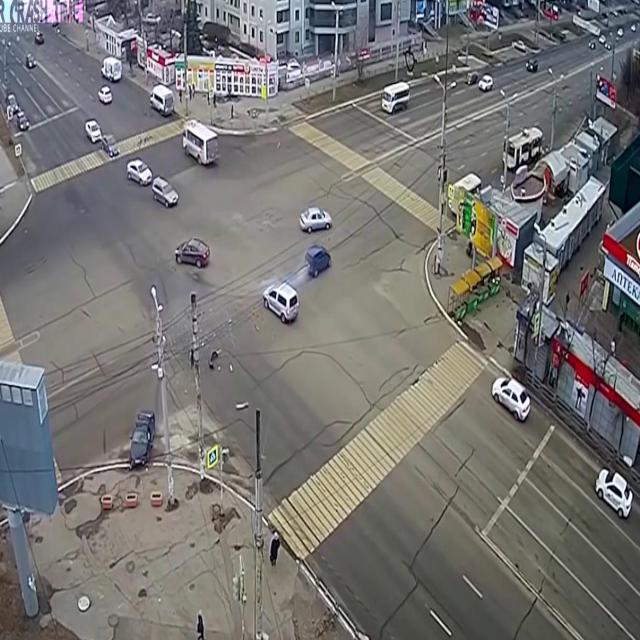accident: (260, 239, 337, 333), (123, 389, 161, 483)
non_accident: (124, 150, 180, 212), (81, 112, 123, 164)
